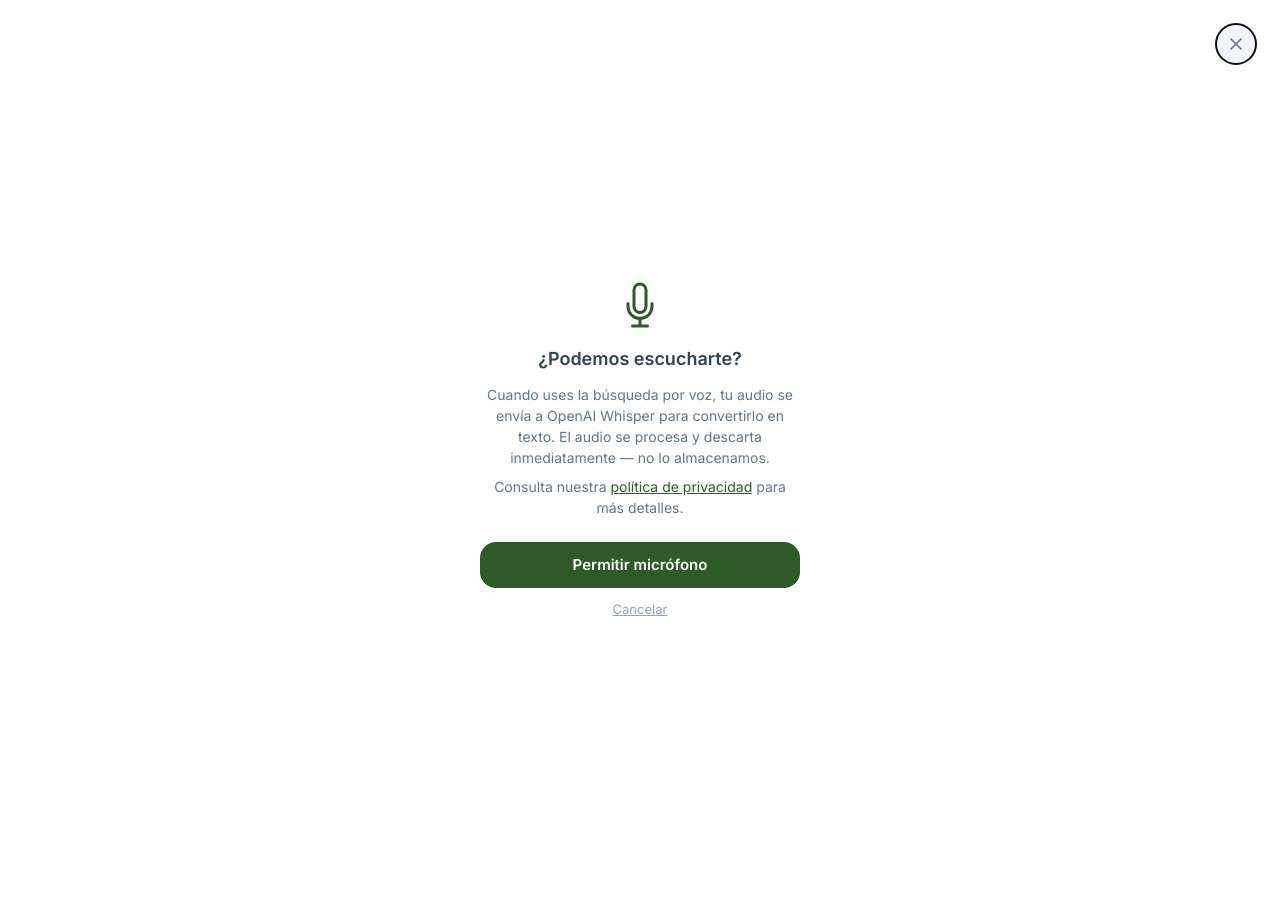
it: VoiceOverlay — pre-permission screen › pre-permission "Permitir micrófono" sets localStorage and hides the screen
Step 1. Click the button "Permitir micrófono" → (640, 565), box [480,542,800,588]
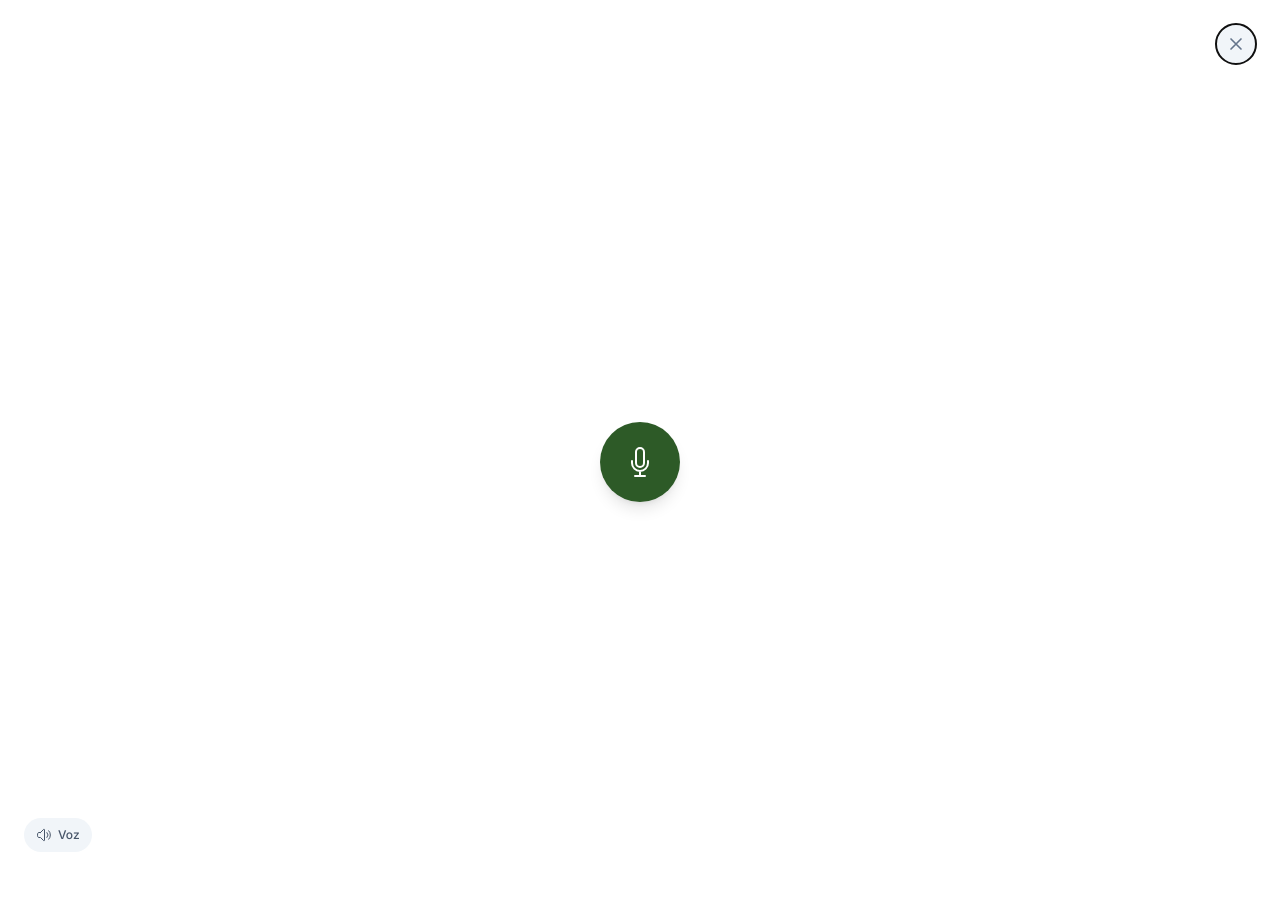
Expected: the heading "¿Podemos escucharte?" is gone
